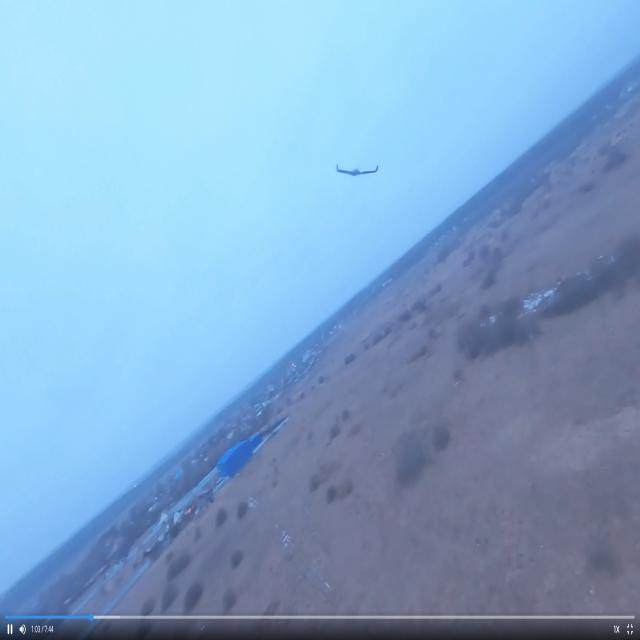planedrone: (332, 157, 381, 177)
